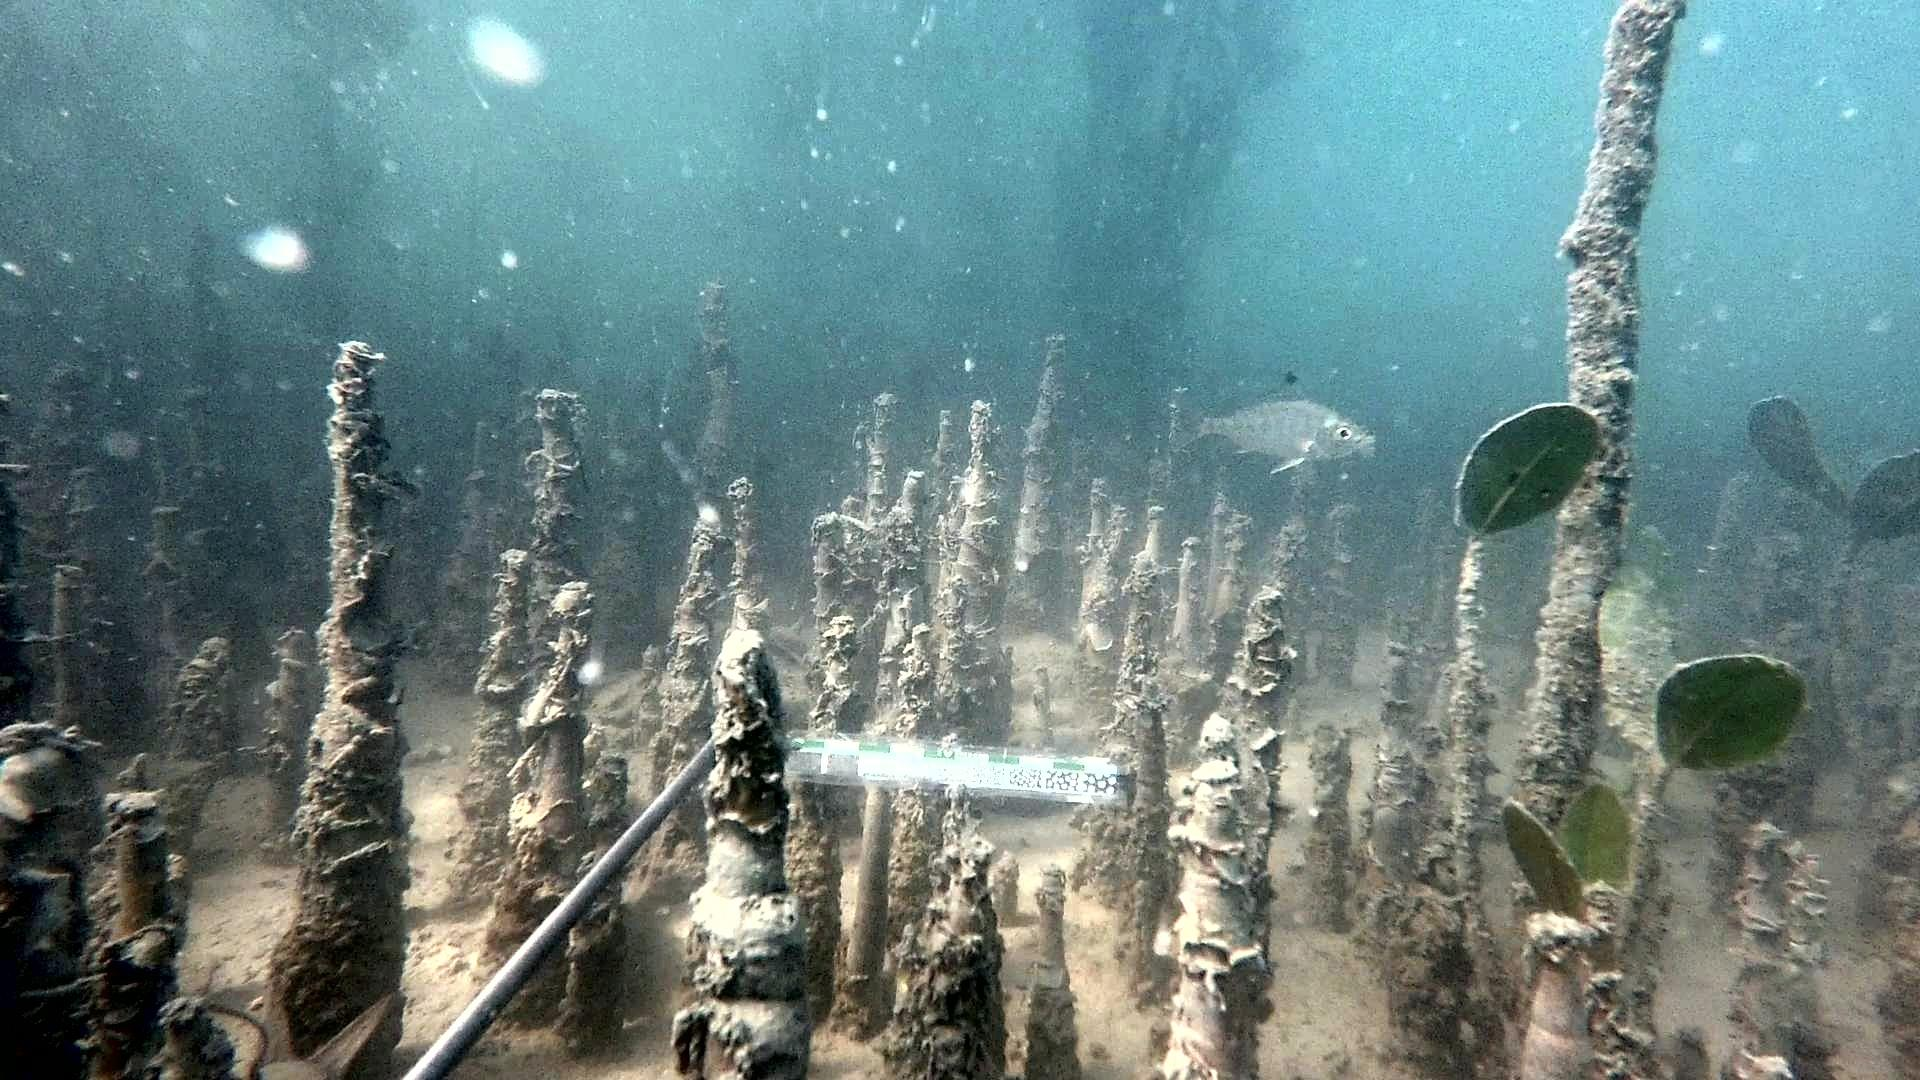gerres: (1168, 368, 1377, 476)
